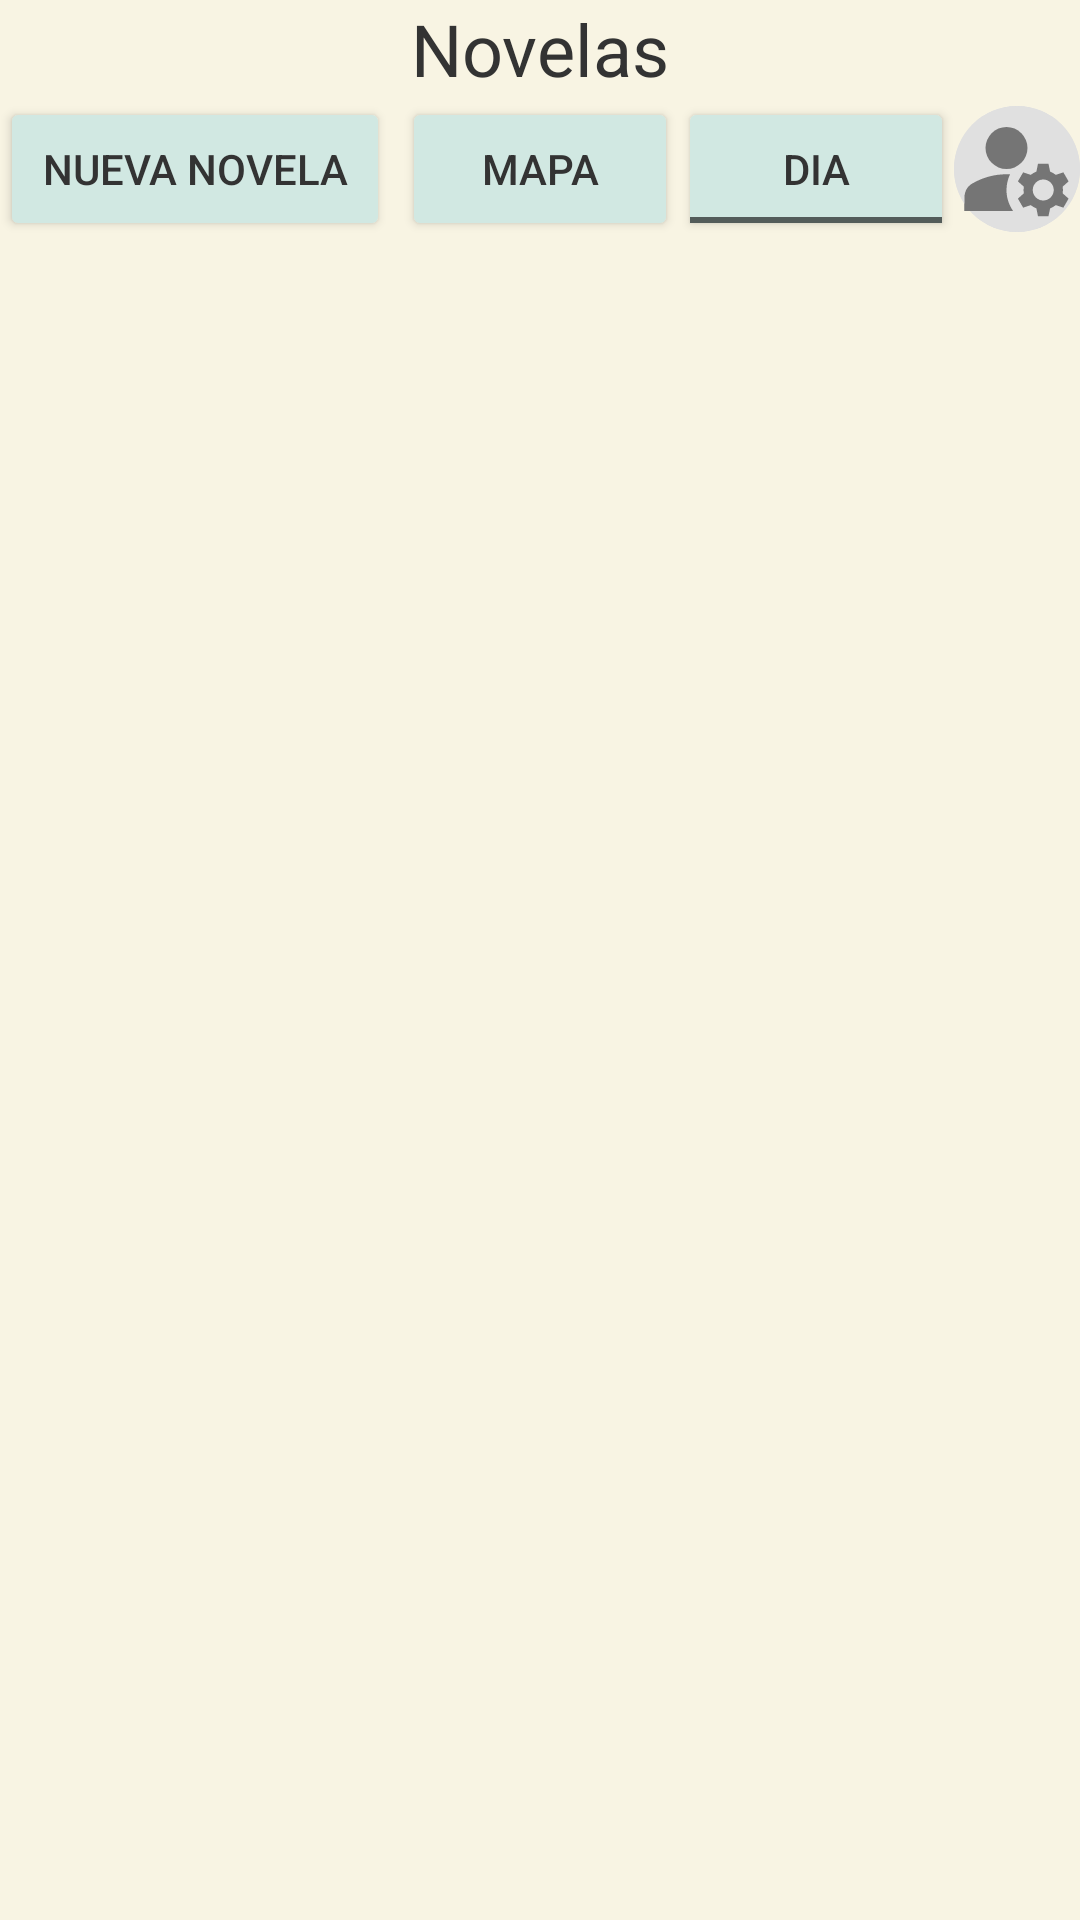

Where icons sit on this 1080w x 1920h app screen, as bbox(x1, y1, x2, y2):
Botón de Ajustes: bbox(954, 106, 1080, 232)
